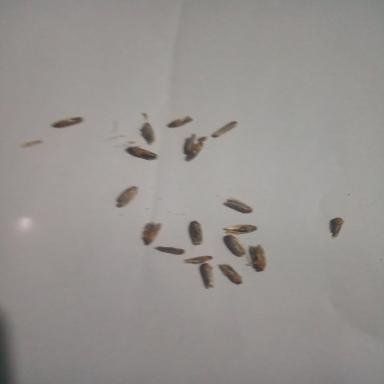pbw: (246, 245, 266, 271), (116, 186, 139, 208), (224, 234, 246, 256), (142, 222, 162, 246), (125, 146, 158, 160), (219, 264, 242, 284), (211, 121, 237, 138), (226, 197, 253, 213), (199, 263, 214, 288), (188, 220, 202, 246), (185, 142, 204, 161), (224, 224, 257, 234), (330, 217, 344, 238), (140, 122, 154, 143), (53, 117, 82, 127), (168, 116, 193, 127), (184, 255, 212, 264), (184, 134, 196, 154), (153, 247, 184, 254)
